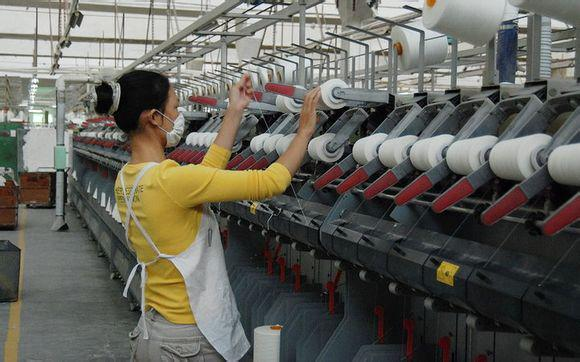OK: (145, 99, 188, 147)
